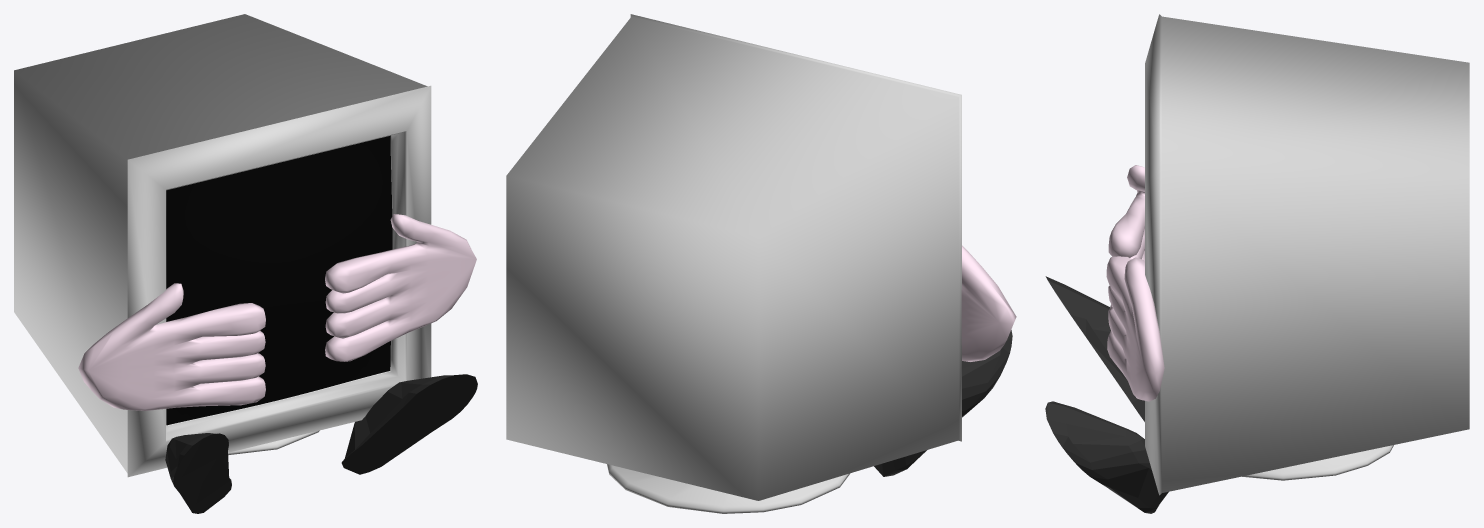
The model's file is GooglyEyedComputer.glb.
3 renders of one model, left to right at view 1: azimuth 30°, elevation 25°; view 2: azimuth 150°, elevation 25°; view 3: azimuth 270°, elevation 25°, orthographic. The views are drawn at different scales.
Parts seen in each view (by area): view 1: Cube, Cube.002, Cube.003, Cube.001; view 2: Cube, Cube.002, Cube.001; view 3: Cube, Cube.002, Cube.003, Cube.001.
Boxes of the visible parts, <box> form: Cube: <box>14,14,431,477</box>; Cube.002: <box>78,214,476,410</box>; Cube.003: <box>341,374,477,474</box>; Cube.001: <box>165,433,231,513</box>; Cube: <box>506,14,961,513</box>; Cube.002: <box>961,245,1016,361</box>; Cube.001: <box>874,330,1012,476</box>; Cube: <box>1145,14,1469,495</box>; Cube.002: <box>1106,165,1164,401</box>; Cube.003: <box>1045,401,1168,513</box>; Cube.001: <box>1045,276,1144,421</box>.
Bounding box in the file's own units: 21.53 × 19.32 × 19.44.
